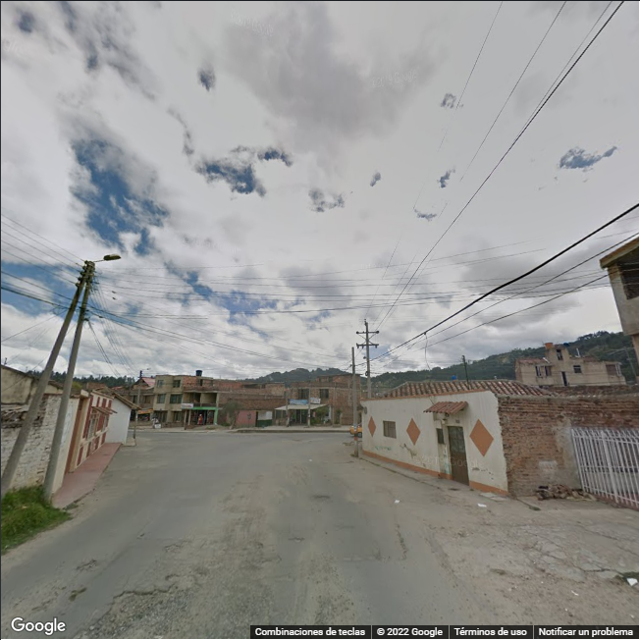D40: (79, 581, 200, 637), (317, 591, 362, 626), (237, 551, 282, 577)
